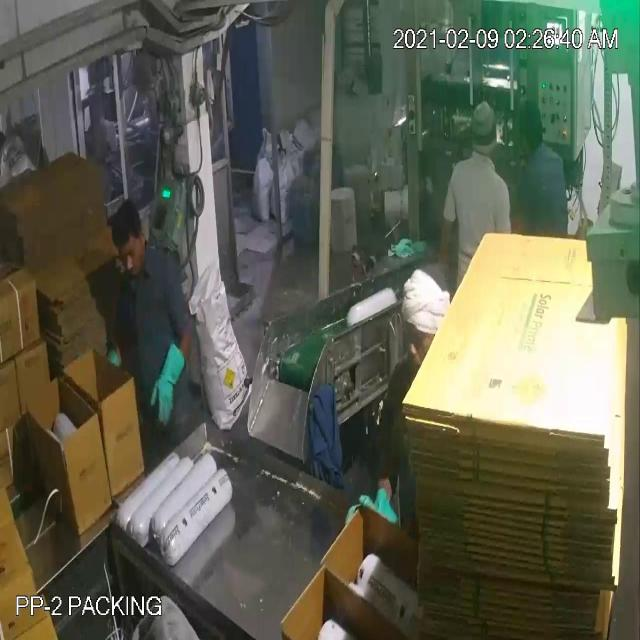gloves: (149, 324, 191, 436)
no-gloves: (433, 209, 459, 290)
